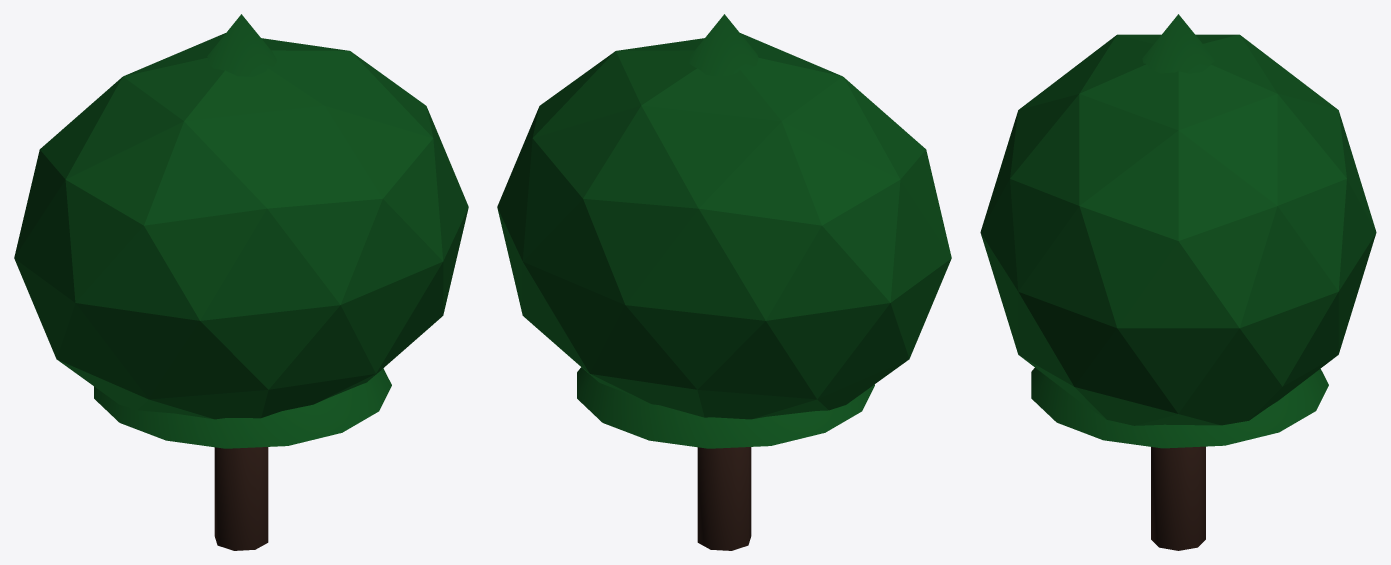
The model's file is TREE.fbx.
The picture shows the model from 3 angles, left to right: view 1: azimuth 30°, elevation 25°; view 2: azimuth 150°, elevation 25°; view 3: azimuth 270°, elevation 25°; orthographic projection.
Visible parts, largest first — view 1: TREER1, TREEPART2, TREEBASE, TREEPART3; view 2: TREER1, TREEPART2, TREEBASE, TREEPART3; view 3: TREER1, TREEPART2, TREEBASE, TREEPART3.
Part boxes in pixels (left/top/right/bottom): TREER1: left=14, top=33, right=468, bottom=419; TREEPART2: left=94, top=368, right=391, bottom=448; TREEBASE: left=214, top=447, right=268, bottom=550; TREEPART3: left=207, top=14, right=276, bottom=76; TREER1: left=497, top=33, right=951, bottom=419; TREEPART2: left=577, top=367, right=874, bottom=448; TREEBASE: left=697, top=447, right=751, bottom=550; TREEPART3: left=689, top=14, right=758, bottom=77; TREER1: left=980, top=34, right=1376, bottom=425; TREEPART2: left=1031, top=368, right=1328, bottom=448; TREEBASE: left=1151, top=446, right=1205, bottom=550; TREEPART3: left=1142, top=14, right=1214, bottom=73.
Bounding box in the file's own units: 405 × 518 × 354.
